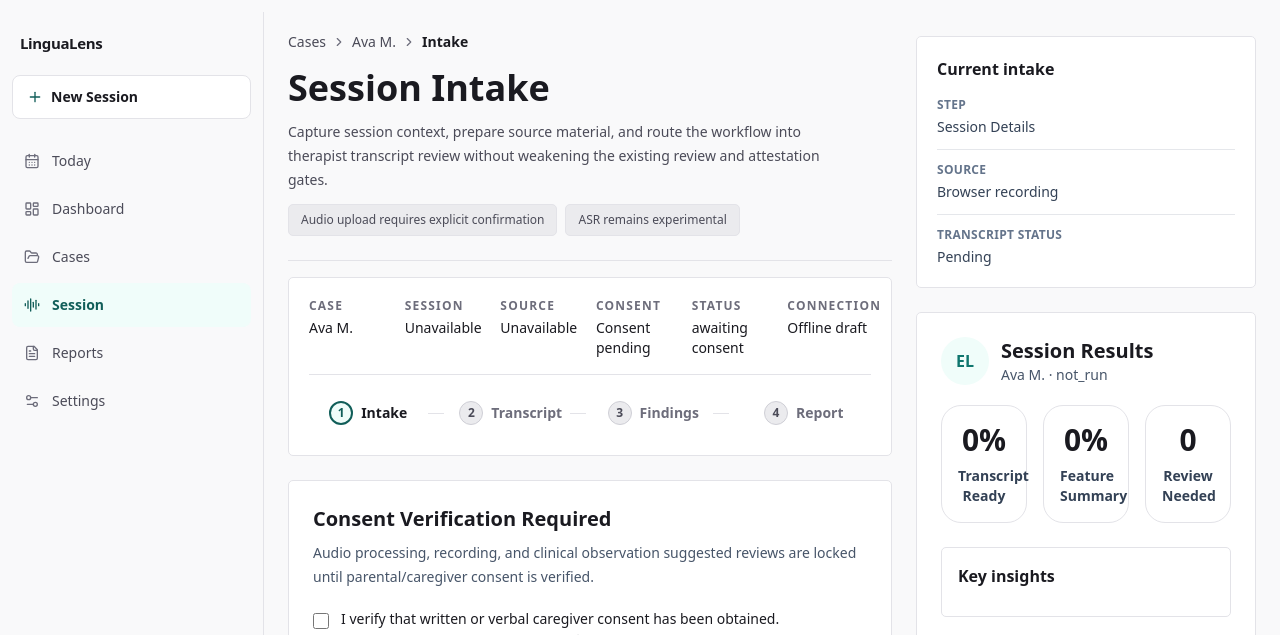
Scenario: session intake flow › blocks intake details step when caregiver consent is pending, and unlocks on verification form submission
Expected: the heading "Consent Verification Required" is shown, [313,505,611,532]
Expected: the field labelled "Child or client" is not shown
Check the box
Click the checkbox.
click(321, 621)  # box [313,613,329,629]
(page scrolled)
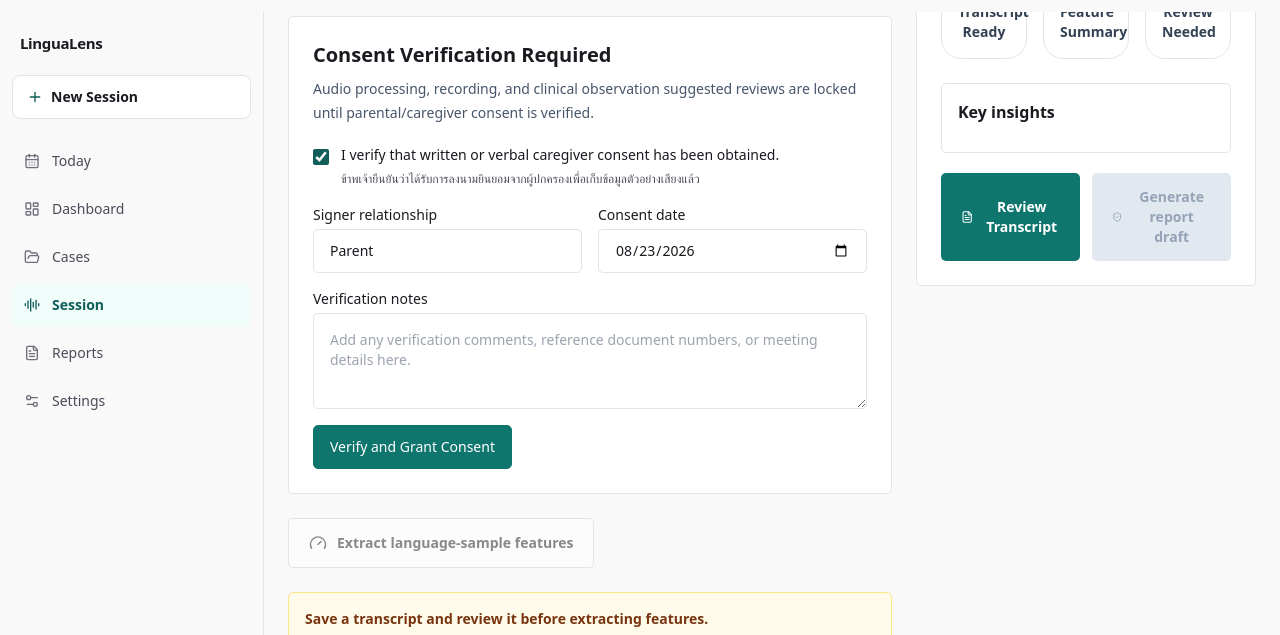
Now the button "Verify and Grant Consent" is enabled
Click the button "Verify and Grant Consent".
click(412, 447)  # box [313,425,512,469]
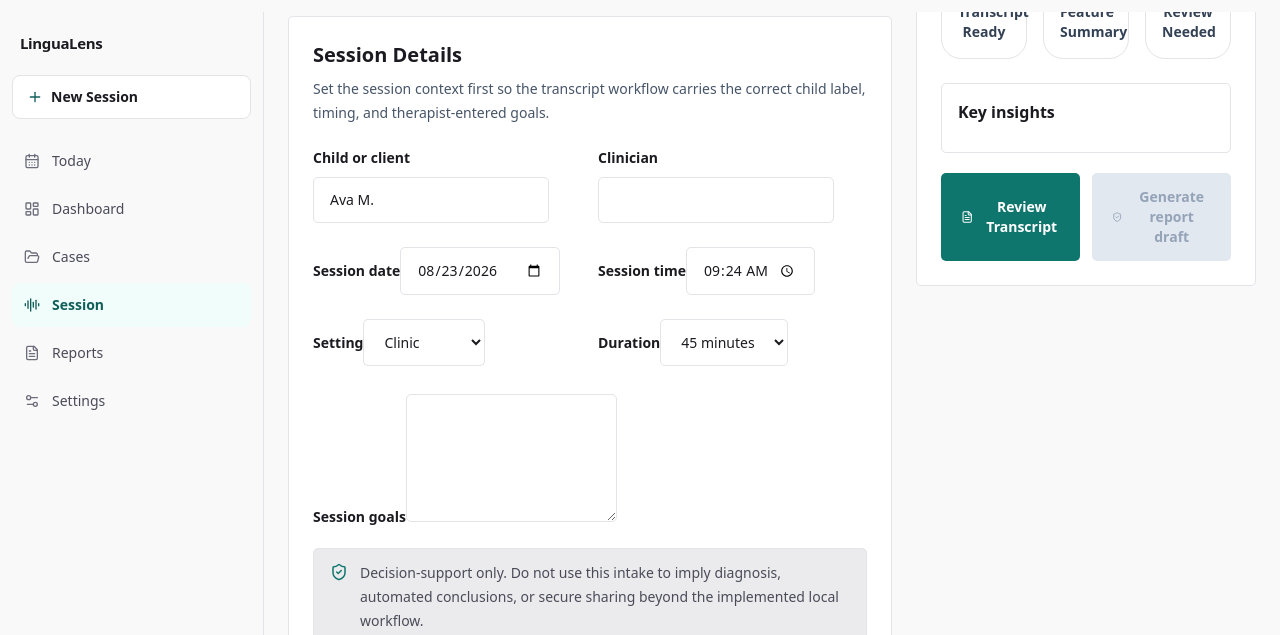
Now the field labelled "Child or client" is shown, box [313,177,549,223]
